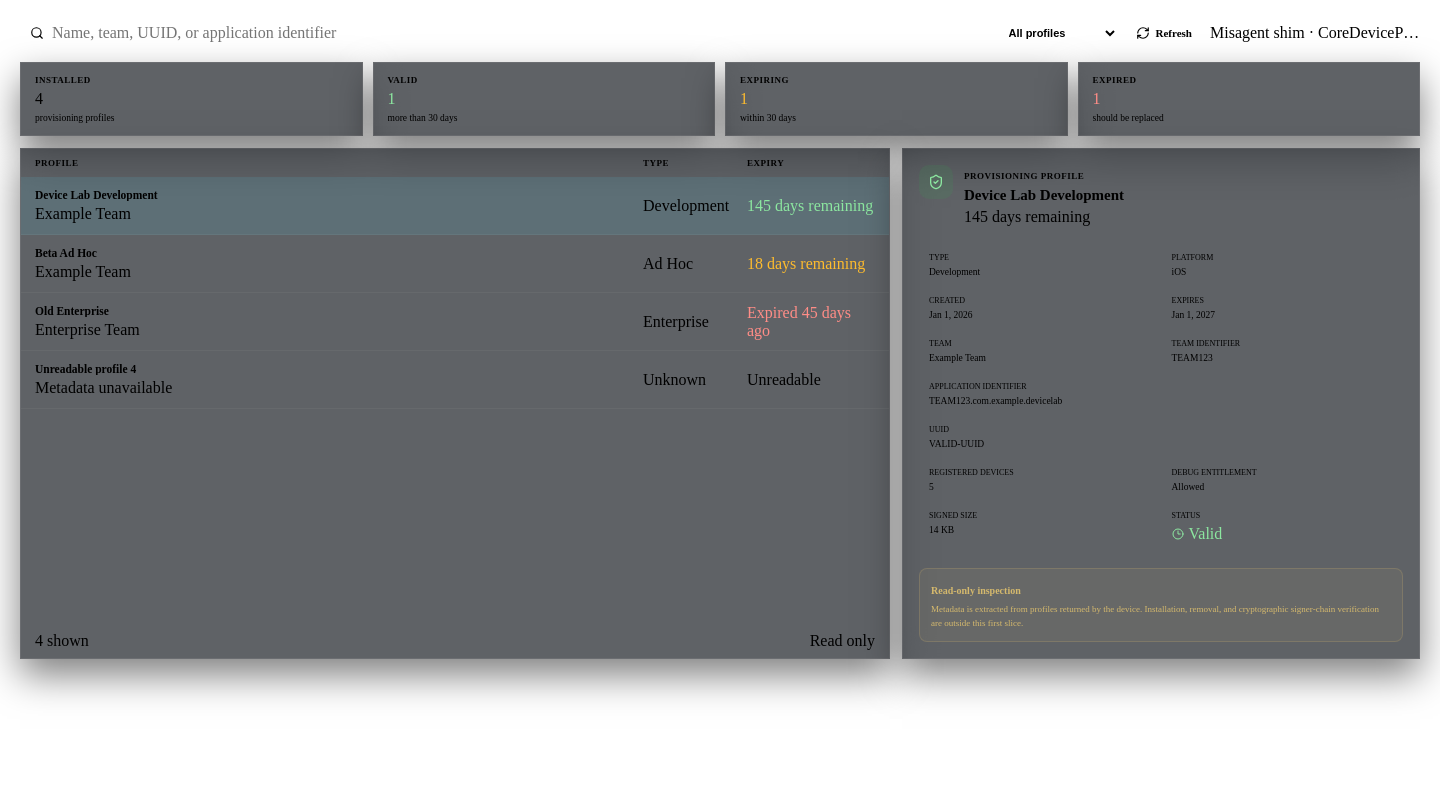
Test case: Provisioning Profiles workflow › searches normalized metadata and opens the matching profile details
This screenshot has width=1452, height=810.
Type "com.example.beta" into the field named "Search profiles" at (514, 33), box top-left (52, 16), bottom-right (976, 50)
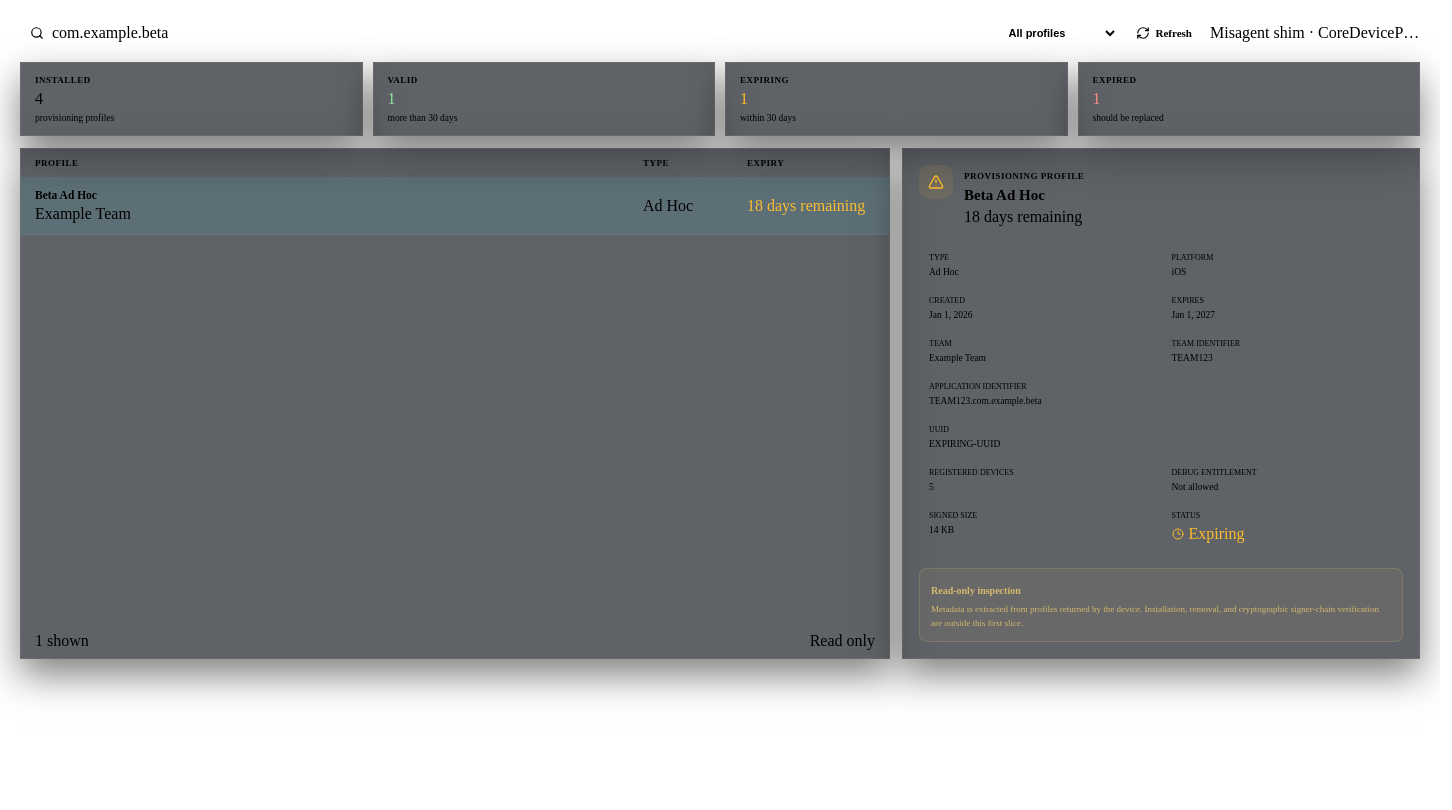
Expected: the button "Beta Ad Hoc Example Team Ad Hoc 18 days remaining" is shown, top-left (21, 177), bottom-right (889, 235)
Now the button "Old Enterprise" is gone
Now the text "TEAM123.com.example.beta" is shown, box top-left (929, 396), bottom-right (1042, 406)
